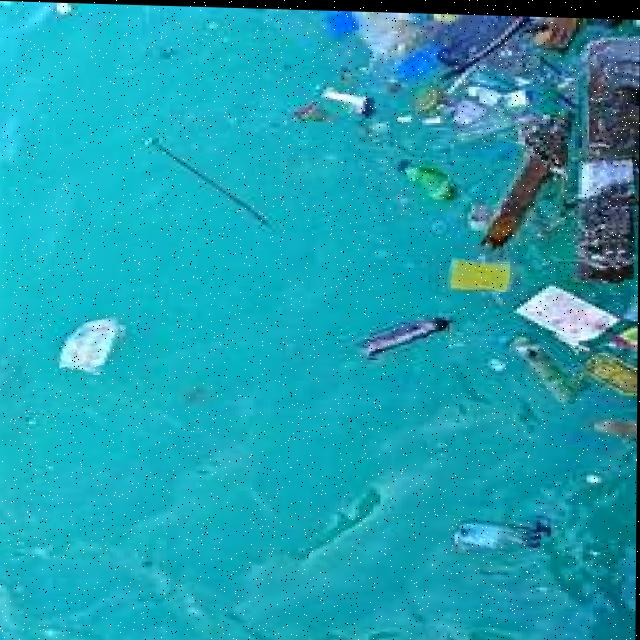mask: (60, 317, 118, 368), (446, 256, 516, 288)
plasticbottle: (512, 327, 578, 399), (370, 317, 449, 356), (459, 522, 541, 547), (394, 164, 448, 190), (312, 91, 374, 105)
wood: (589, 30, 628, 274), (483, 147, 566, 250), (596, 413, 637, 442), (534, 15, 571, 40)
